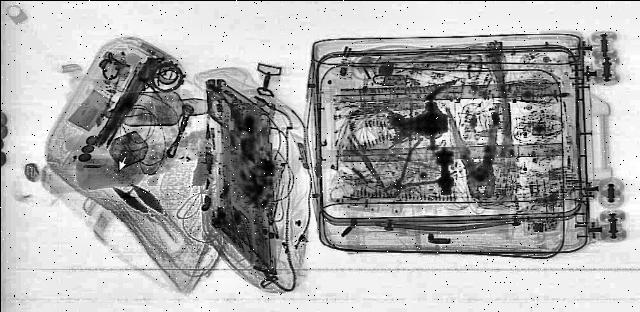Pliers: (358, 137, 479, 202), (446, 106, 506, 198)
